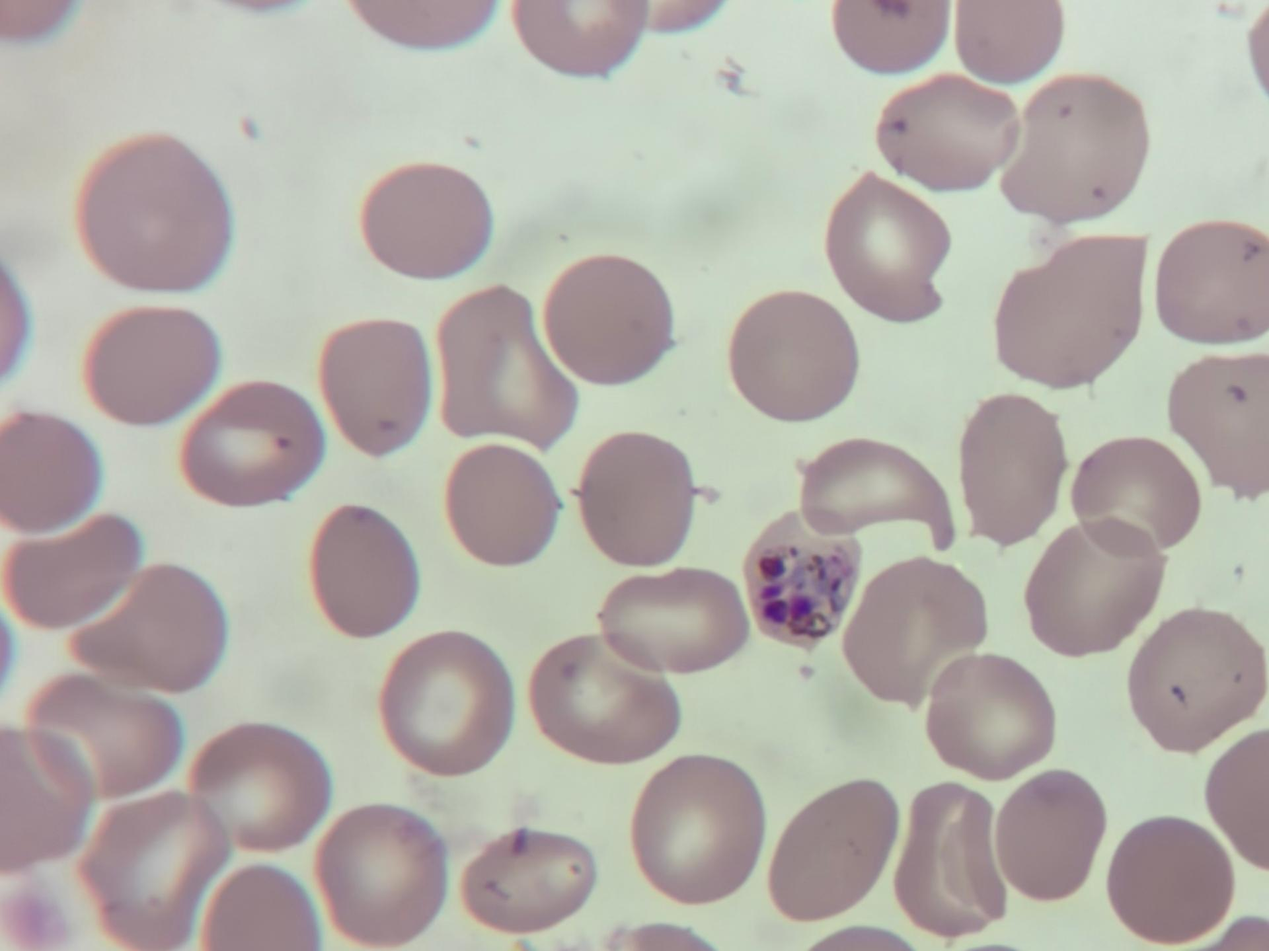Infected: (744, 513, 865, 648)
Uninfected: (434, 287, 577, 451), (995, 236, 1145, 391), (83, 133, 229, 292), (77, 791, 224, 946), (1003, 73, 1147, 220), (840, 558, 983, 703), (69, 564, 225, 695), (27, 674, 180, 805), (1127, 608, 1264, 749), (633, 755, 763, 902), (378, 634, 512, 776), (529, 636, 677, 763), (765, 779, 897, 921), (1026, 521, 1163, 656), (826, 172, 950, 321), (313, 806, 445, 942), (180, 382, 323, 506), (191, 723, 329, 851), (796, 439, 952, 551), (893, 782, 1007, 932), (878, 73, 1020, 193), (543, 255, 675, 384), (728, 292, 855, 422), (574, 432, 699, 562), (319, 321, 434, 459), (598, 570, 746, 677), (959, 396, 1065, 545), (360, 163, 492, 281), (1106, 819, 1231, 942), (924, 656, 1050, 777), (1069, 437, 1196, 556), (5, 513, 137, 627), (461, 825, 597, 934), (86, 309, 215, 423), (444, 444, 564, 566), (310, 506, 419, 637), (1155, 219, 1269, 343), (993, 772, 1103, 900), (1171, 355, 1269, 494), (1, 730, 91, 868), (0, 420, 102, 531), (518, 1, 647, 77), (200, 866, 319, 948), (955, 3, 1061, 85), (834, 1, 950, 74), (1206, 732, 1267, 868)
